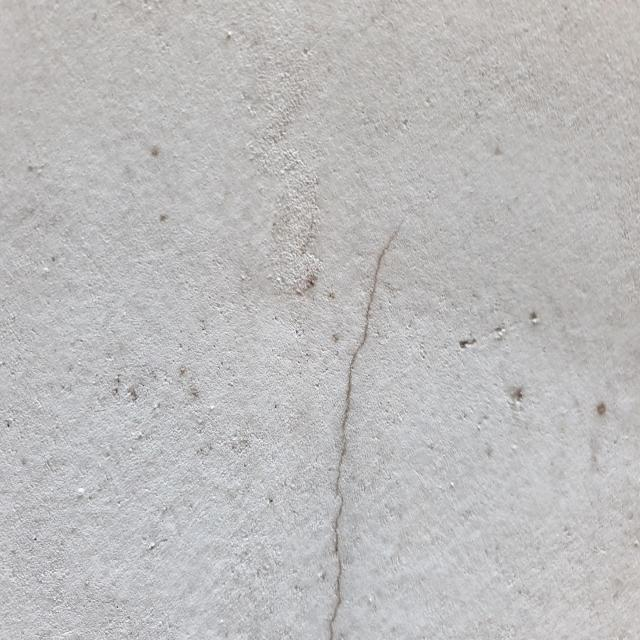SurfaceCrack: (284, 1, 446, 639)
